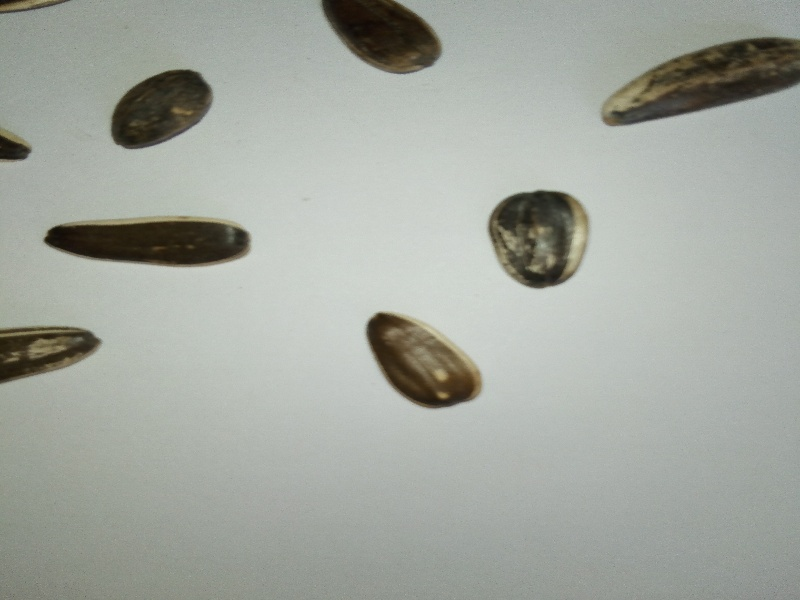w: (356, 299, 496, 415), (33, 209, 258, 276), (481, 180, 602, 298), (92, 63, 219, 162)
